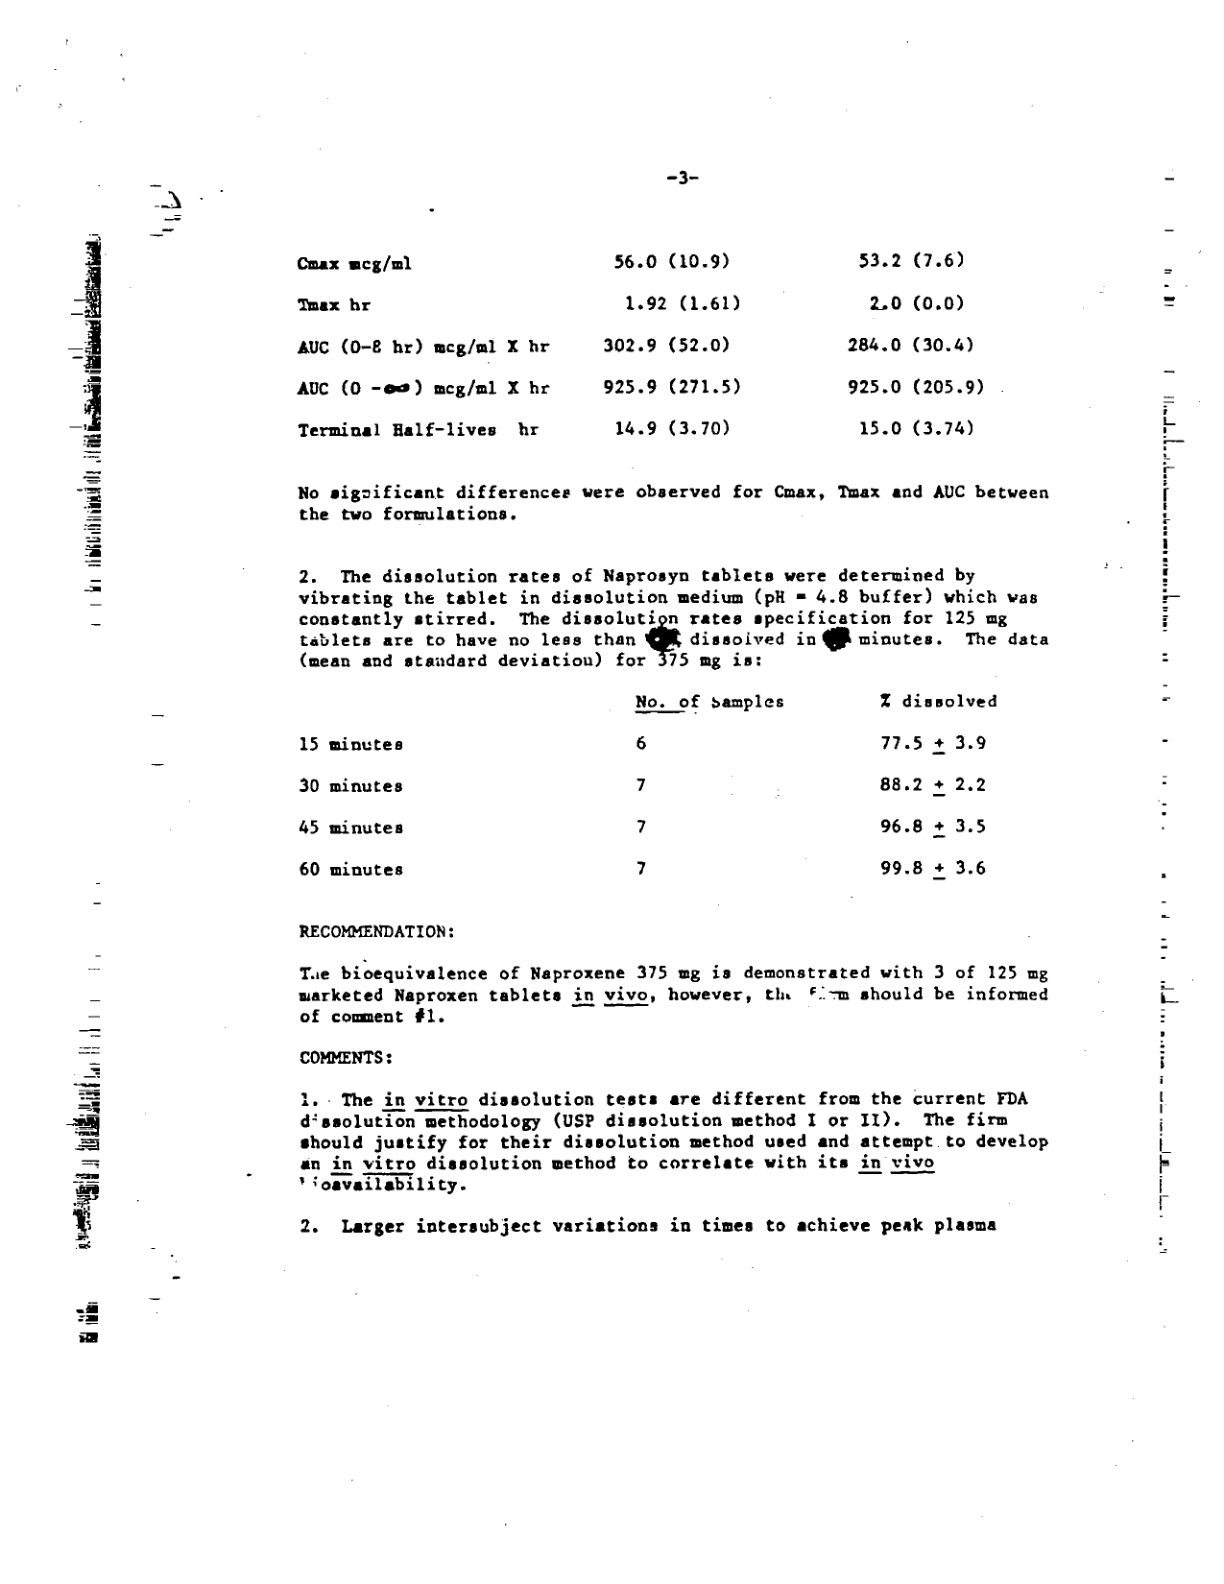nolines: (291, 237, 987, 444), (292, 687, 1003, 883)
